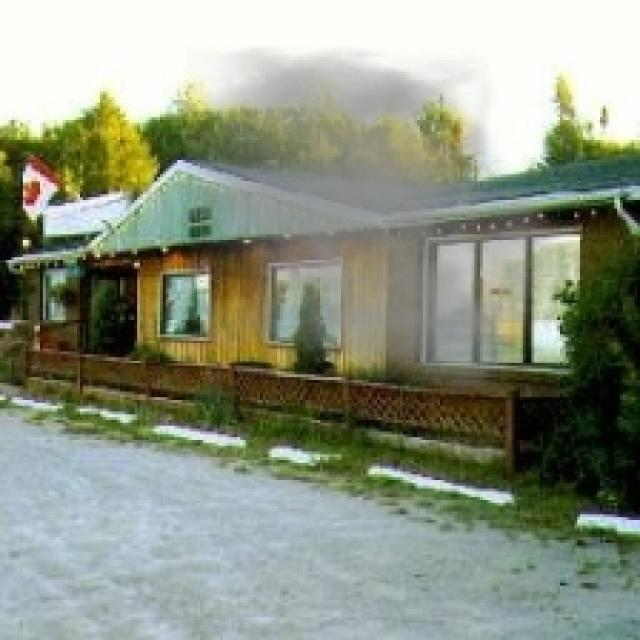Smoke: (185, 46, 578, 392)
